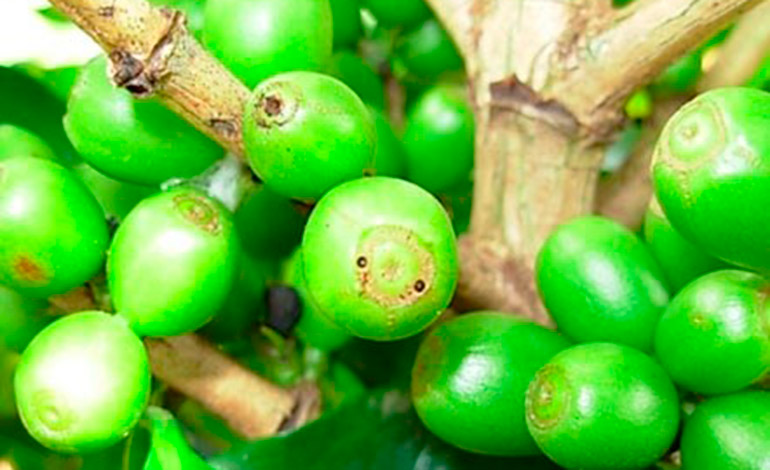broca de cafe: (251, 69, 475, 326)
